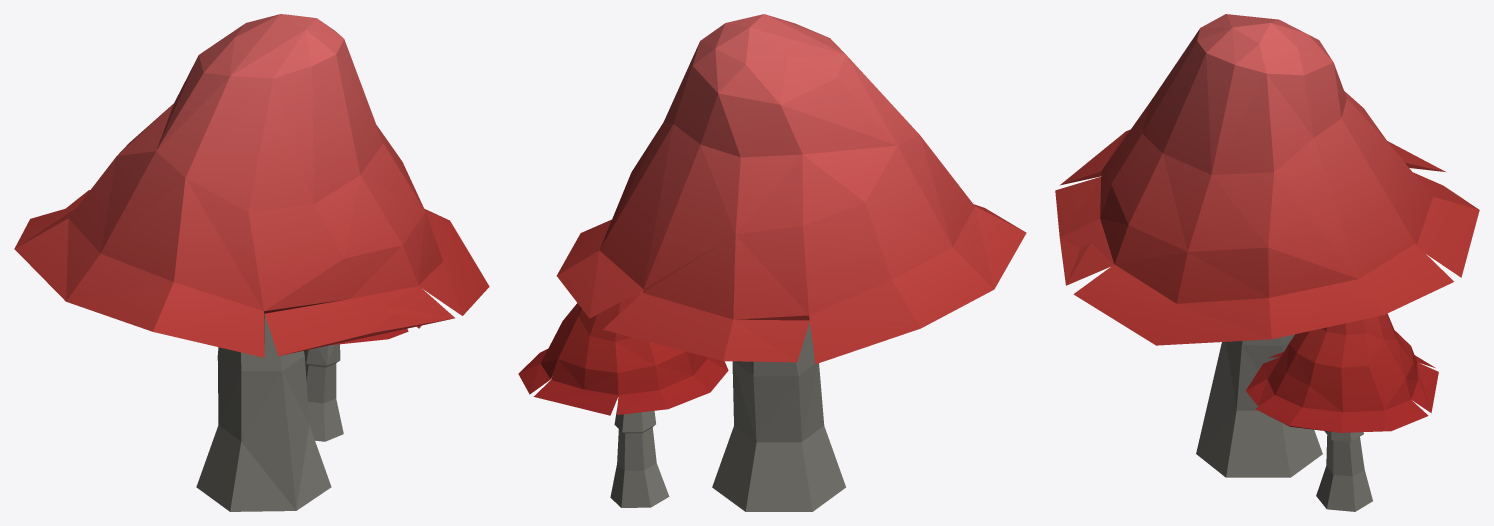
Rendered from Mushroom_04.fbx.
The picture shows the model from 3 angles, left to right: view 1: azimuth 30°, elevation 25°; view 2: azimuth 150°, elevation 25°; view 3: azimuth 270°, elevation 25°; orthographic projection. The views are drawn at different scales.
Visible parts, largest first — view 1: Mushroom_04; view 2: Mushroom_04; view 3: Mushroom_04.
Boxes of the visible parts, bbox=[...] form: Mushroom_04: bbox=[14, 14, 489, 511]; Mushroom_04: bbox=[518, 14, 1026, 511]; Mushroom_04: bbox=[1055, 14, 1479, 511].
Size of the model in its own units: 0.7455 by 0.8165 by 0.7071.
